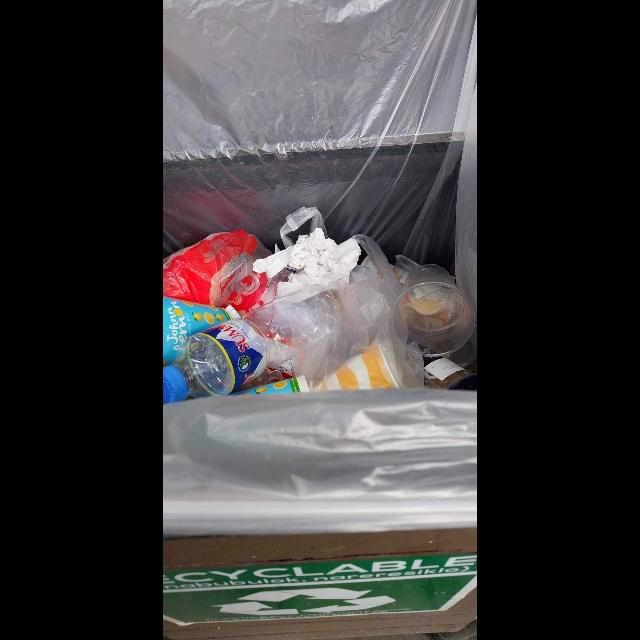paper: (253, 228, 361, 296)
plastic_bag: (294, 234, 425, 392), (163, 230, 277, 317)
plastic_bottle: (163, 285, 341, 405)
plastic_container: (393, 264, 476, 358)
